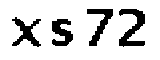2: (117, 6, 150, 49)
7: (83, 5, 115, 49)
s: (45, 17, 77, 45)
x: (7, 16, 43, 49)
